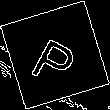P_NE: (27, 24, 83, 86)
